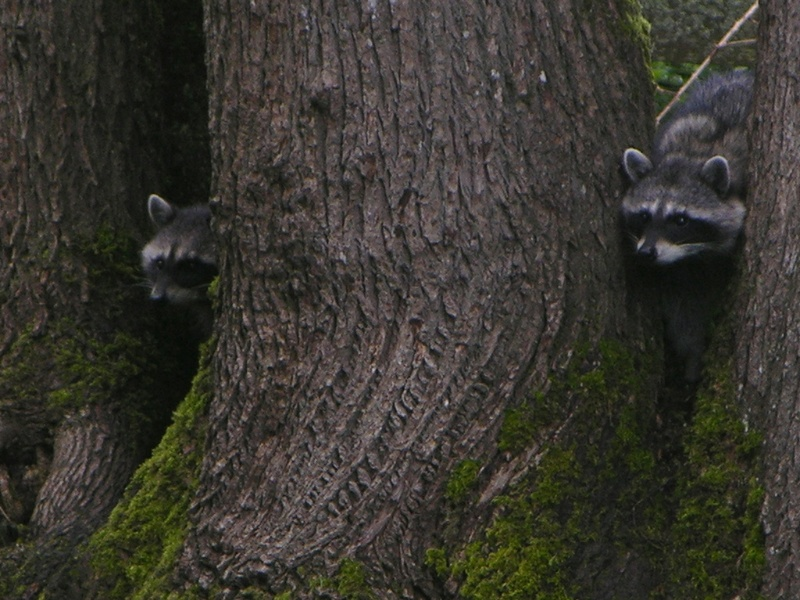raccoon: (620, 58, 769, 383), (126, 180, 247, 340)
